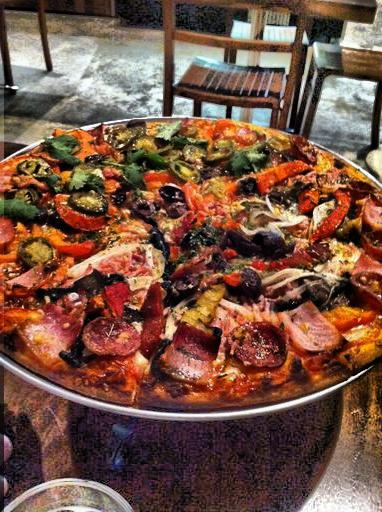pizza: (2, 134, 380, 405)
